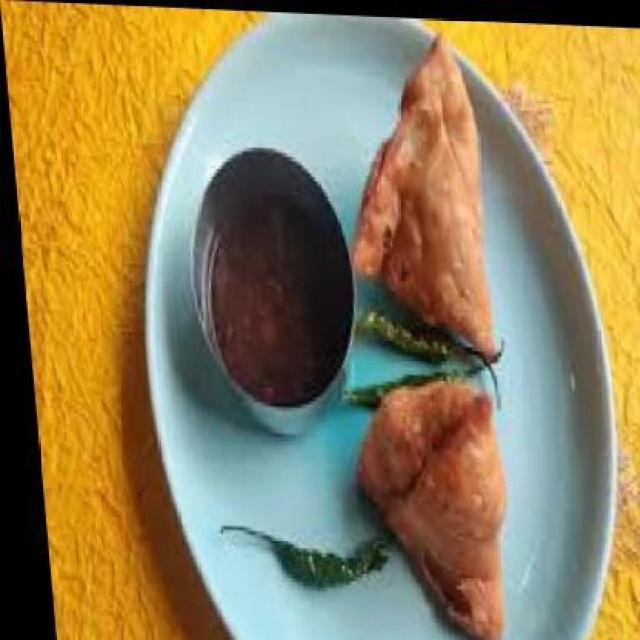samosa: (331, 22, 491, 349), (338, 376, 508, 638)
